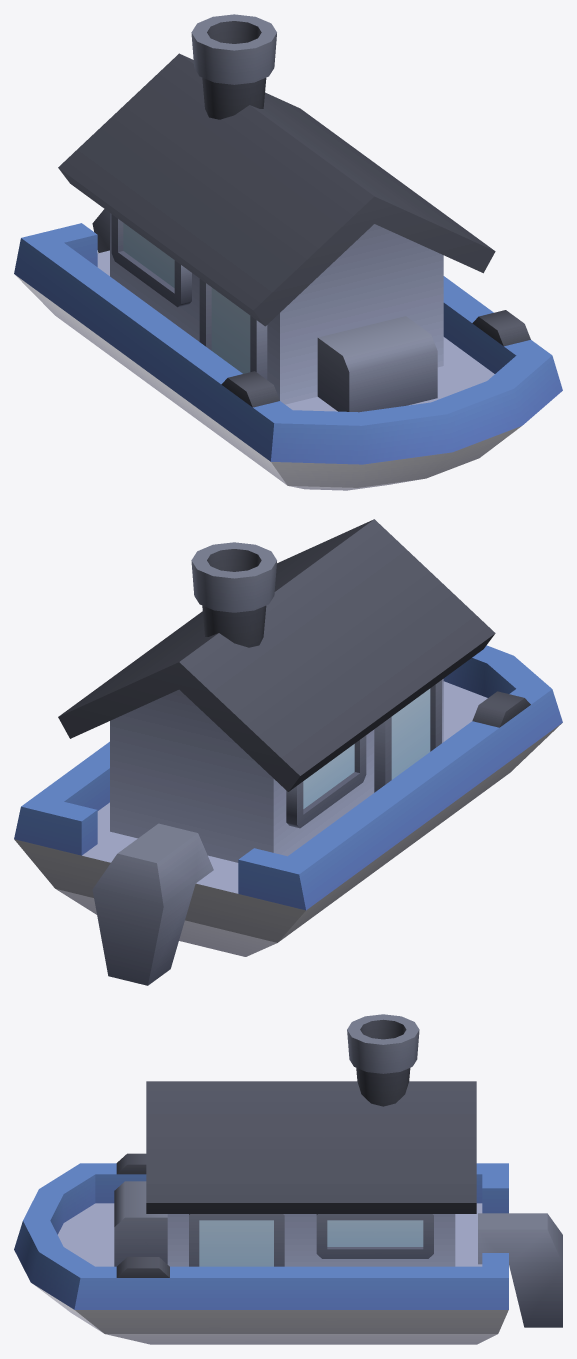
The model's file is boat_house_c.glb.
3 renders of one model, top to bottom at view 1: azimuth 30°, elevation 25°; view 2: azimuth 150°, elevation 25°; view 3: azimuth 270°, elevation 25°, orthographic. The views are drawn at different scales.
Parts seen in each view (by area): view 1: boat-house-c; view 2: boat-house-c; view 3: boat-house-c.
Boxes of the visible parts, x1,y1,x2,y2 form: boat-house-c: [14, 14, 562, 490]; boat-house-c: [14, 519, 562, 985]; boat-house-c: [14, 1014, 562, 1344].
Bounding box in the file's own units: 2.68 × 3 × 5.15.
1 material, 1 textured.
